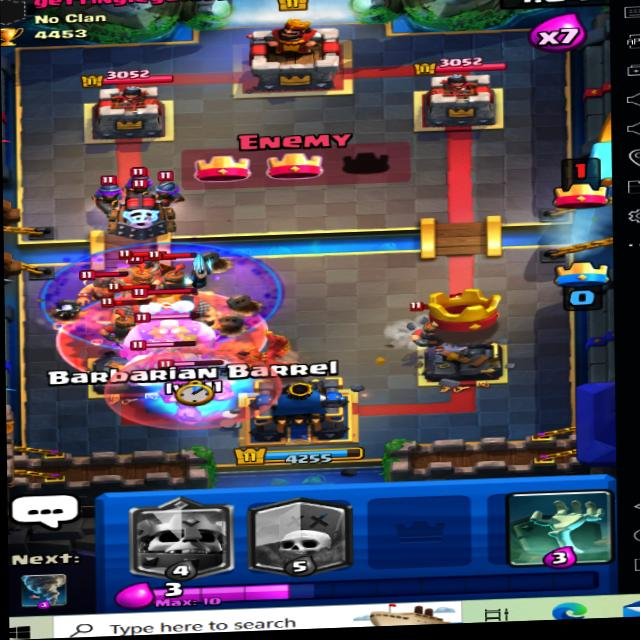Ebarbs: (69, 267, 129, 302)
Egiant: (120, 306, 212, 355)
Goblingiant: (124, 329, 221, 388)
Golem: (147, 363, 238, 423)
Musketeer: (148, 169, 193, 211), (124, 160, 163, 201), (90, 168, 131, 204)
Royalgiant: (121, 284, 223, 329)
Royalrecruits: (410, 311, 458, 354), (153, 253, 202, 293)
Sparky: (110, 179, 185, 241)
